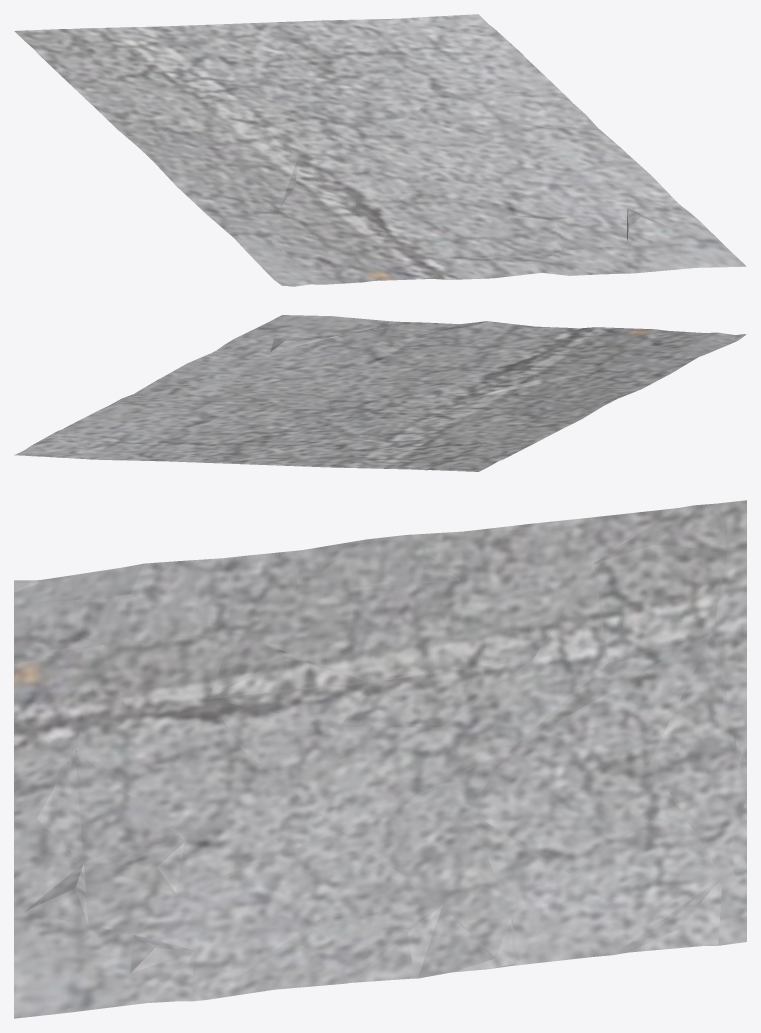
3 renders of one model, top to bottom at view 1: azimuth 30°, elevation 25°; view 2: azimuth 150°, elevation 25°; view 3: azimuth 270°, elevation 25°, orthographic. The views are drawn at different scales.
Size of the model in its own units: 1.67 by 0.5261 by 1.67.
3 materials, 3 textured.
